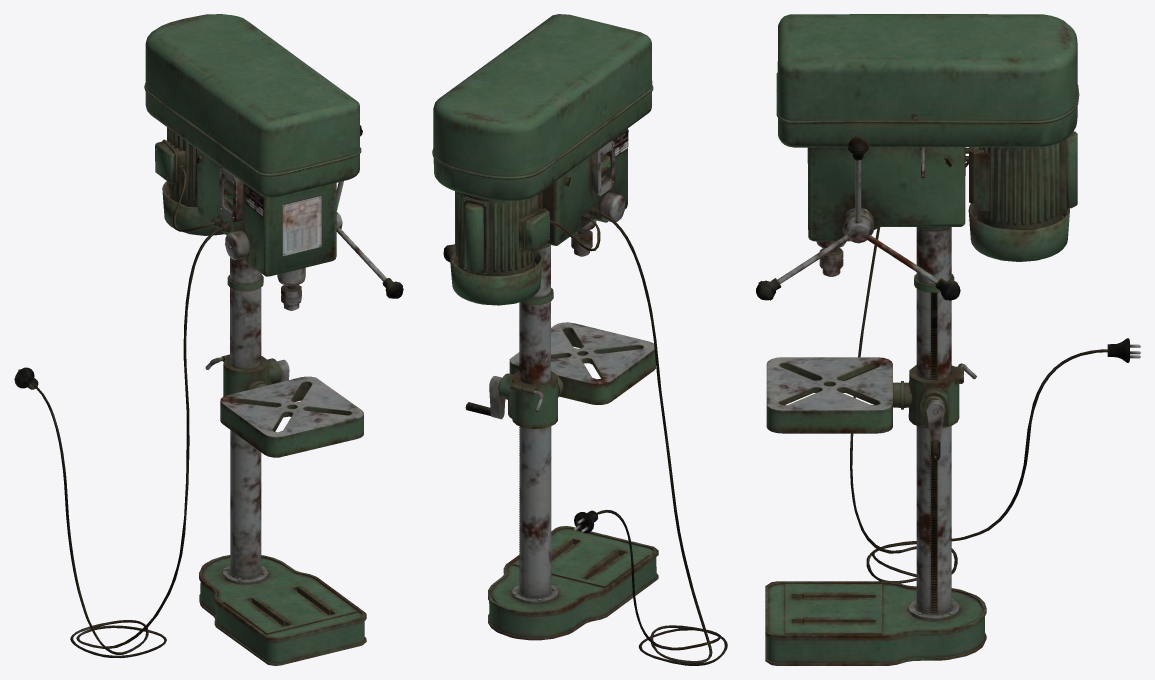
File: old_drill_press.glb
3 renders of one model, left to right at view 1: azimuth 30°, elevation 25°; view 2: azimuth 150°, elevation 25°; view 3: azimuth 270°, elevation 25°, orthographic. The views are drawn at different scales.
Visible parts, largest first — view 1: old_drill_press, old_drill_press_cable; view 2: old_drill_press, old_drill_press_cable; view 3: old_drill_press, old_drill_press_cable.
Boxes of the visible parts, left/top/right/bottom form: old_drill_press: left=144, top=14, right=403, bottom=665; old_drill_press_cable: left=14, top=167, right=222, bottom=657; old_drill_press: left=432, top=14, right=658, bottom=640; old_drill_press_cable: left=550, top=211, right=727, bottom=665; old_drill_press: left=756, top=14, right=1079, bottom=665; old_drill_press_cable: left=850, top=161, right=1140, bottom=583.
Bounding box in the file's own units: 0.5272 × 1.05 × 0.6092.
1 material, 1 textured.
